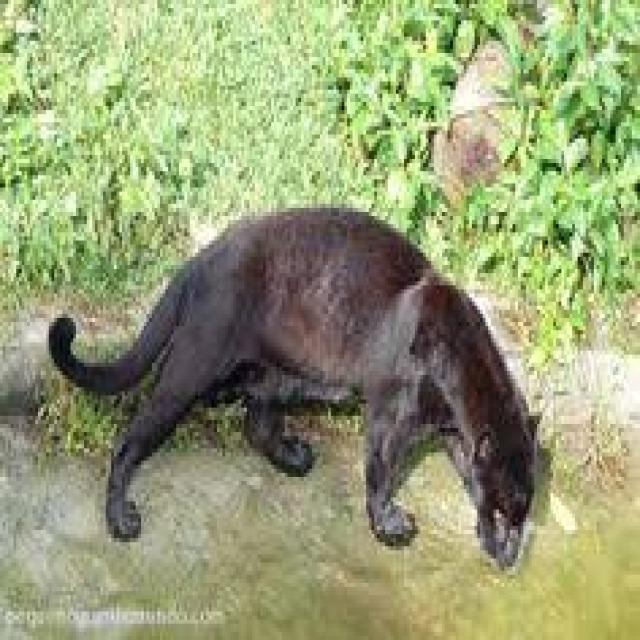Jaguar: (52, 195, 545, 570)
